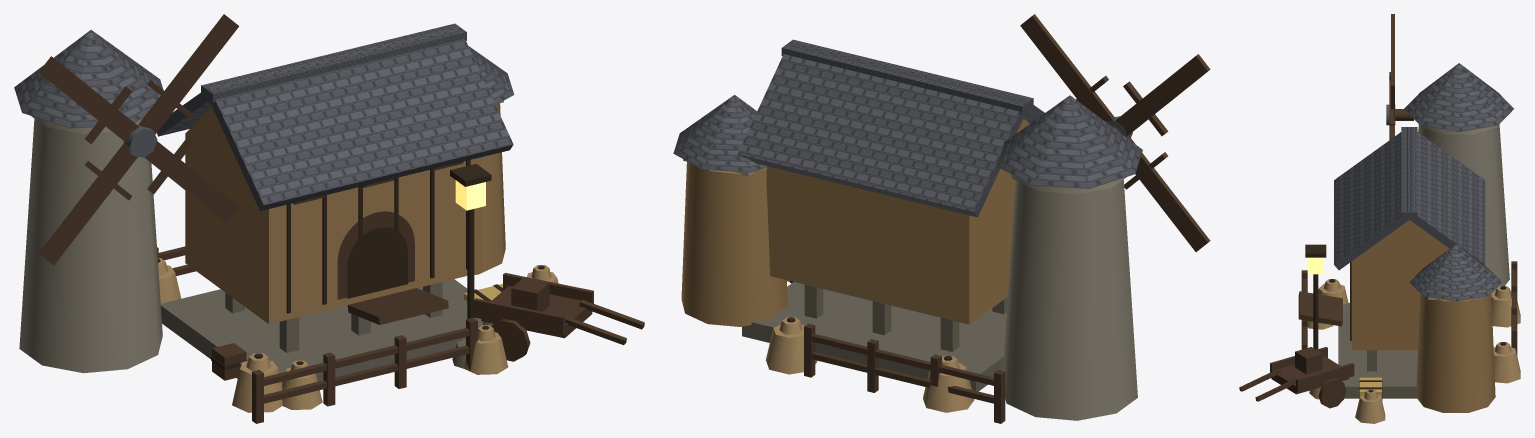
File: granary-L3.glb
3 views of the same model, side by side, from view 1: azimuth 30°, elevation 25°; view 2: azimuth 150°, elevation 25°; view 3: azimuth 270°, elevation 25° (orthographic). The views are drawn at different scales.
Parts seen in each view (by area): view 1: building-granary-L3; view 2: building-granary-L3; view 3: building-granary-L3.
Part boxes in pixels (x1,y1,x2,y2): building-granary-L3: (14, 14, 644, 423); building-granary-L3: (673, 14, 1210, 423); building-granary-L3: (1239, 14, 1520, 423).
Bounding box in the file's own units: 3.72 × 2.44 × 2.55.
11 materials, 1 textured.
